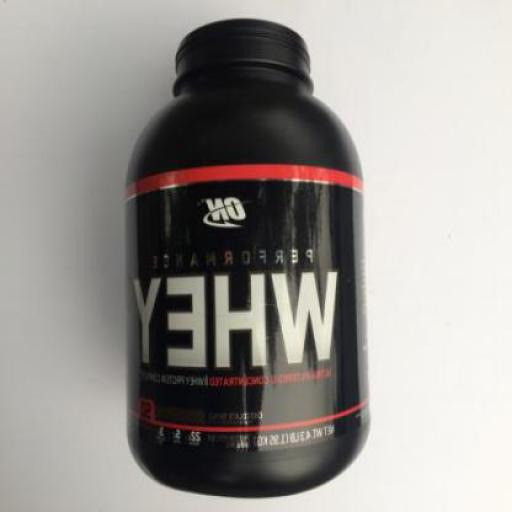plastic: (126, 16, 369, 497), (125, 161, 366, 454)
